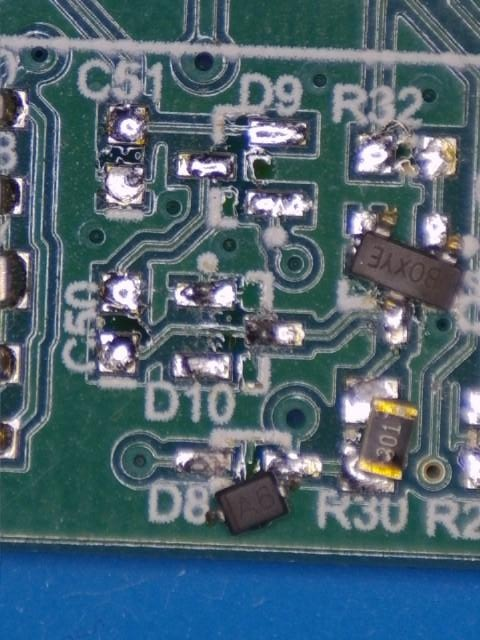pcb_defect: (350, 210, 465, 344), (205, 452, 323, 536), (340, 377, 419, 493)
